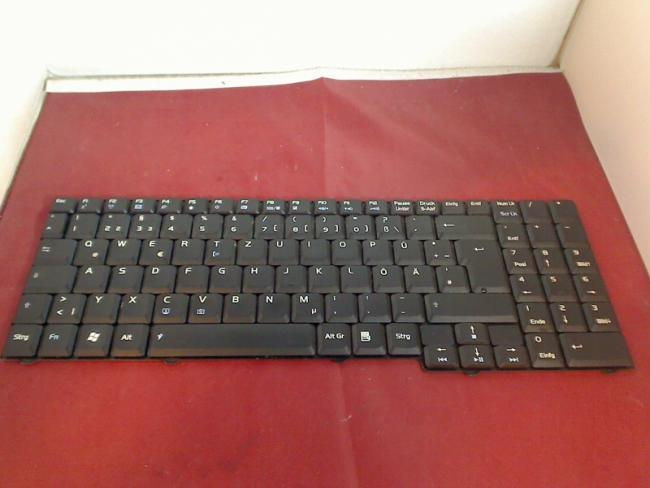0: (345, 213, 373, 238)
1: (67, 212, 97, 239)
2: (98, 212, 129, 238)
3: (130, 212, 159, 237)
4: (161, 212, 190, 238)
5: (192, 212, 221, 238)
6: (224, 213, 252, 239)
7: (254, 212, 283, 238)
8: (285, 212, 313, 239)
9: (315, 213, 343, 238)
a: (74, 264, 108, 292)
accent: (405, 214, 432, 239)
ae: (404, 264, 435, 291)
alt-left: (111, 322, 147, 356)
altgr-right: (316, 320, 350, 355)
b: (222, 291, 256, 321)
c: (153, 291, 187, 322)
caret: (40, 213, 64, 236)
comma: (324, 291, 355, 321)
d: (142, 264, 174, 292)
del: (434, 214, 491, 238)
e: (139, 237, 171, 264)
enter: (456, 237, 507, 290)
f: (176, 264, 207, 292)
g: (209, 264, 240, 291)
h: (243, 264, 273, 292)
hash: (436, 264, 467, 291)
i: (299, 237, 329, 263)
j: (275, 264, 305, 292)
k: (308, 264, 338, 292)
keyboard: (1, 195, 637, 374)
l: (340, 264, 369, 292)
less: (49, 291, 85, 323)
m: (291, 291, 323, 322)
minus: (390, 292, 422, 320)
n: (257, 291, 289, 321)
o: (331, 238, 360, 263)
oe: (372, 263, 402, 291)
p: (362, 238, 390, 263)
plus: (424, 238, 453, 264)
point: (358, 292, 388, 320)
q: (75, 238, 107, 264)
r: (172, 237, 203, 264)
s: (109, 264, 141, 292)
shift-left: (13, 293, 48, 323)
shift-lock: (25, 264, 74, 292)
shift-right: (424, 291, 515, 321)
space: (148, 321, 315, 357)
ss: (375, 214, 402, 237)
strg-left: (2, 322, 41, 356)
strg-right: (385, 320, 420, 354)
t: (204, 238, 235, 263)
tab: (33, 237, 74, 265)
u: (268, 237, 298, 263)
ue: (392, 238, 422, 264)
v: (188, 291, 221, 322)
w: (107, 237, 139, 264)
x: (118, 292, 153, 323)
y: (84, 292, 118, 322)
z: (236, 238, 266, 263)
